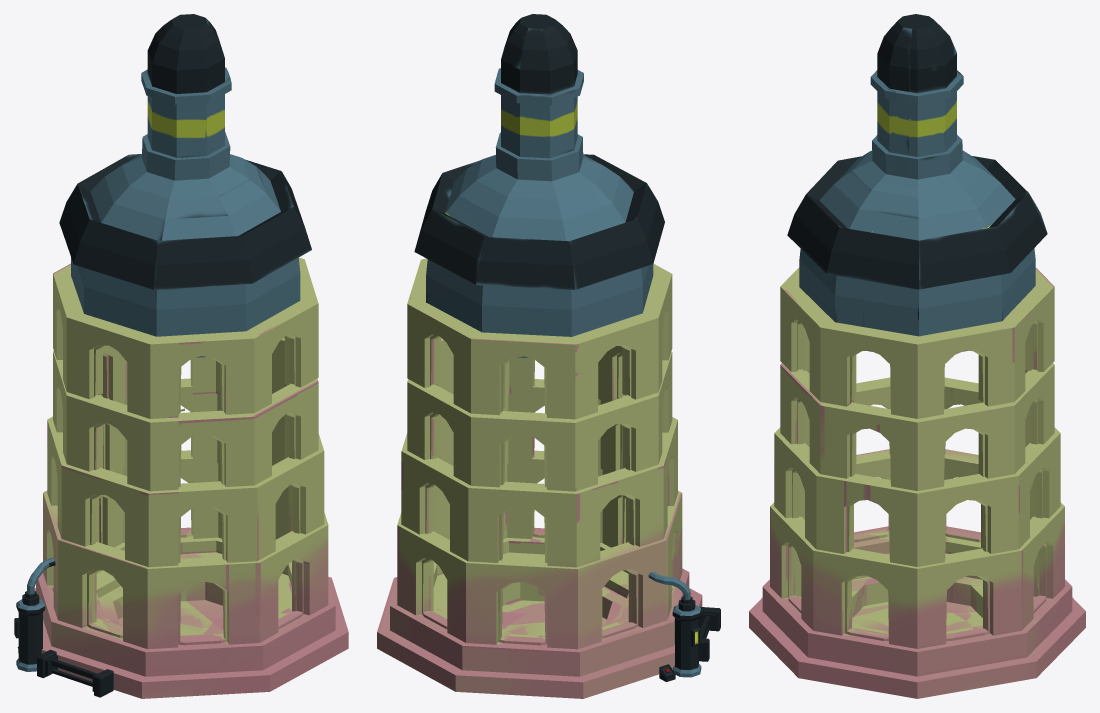
Rendered from phare.fbx.
The picture shows the model from 3 angles, left to right: view 1: azimuth 30°, elevation 25°; view 2: azimuth 150°, elevation 25°; view 3: azimuth 270°, elevation 25°; orthographic projection.
Visible parts, largest first — view 1: champ_ferme.005, champ_ferme.004, battery_ferme.012, pipe_ferme.004; view 2: champ_ferme.005, champ_ferme.004, battery_ferme.012, pipe_ferme.004; view 3: champ_ferme.005, champ_ferme.004.
Boxes of the visible parts, left/top/right/bottom form: champ_ferme.005: left=34, top=257, right=348, bottom=698; champ_ferme.004: left=59, top=14, right=311, bottom=357; battery_ferme.012: left=14, top=557, right=55, bottom=671; pipe_ferme.004: left=37, top=649, right=113, bottom=697; champ_ferme.005: left=377, top=258, right=702, bottom=698; champ_ferme.004: left=414, top=14, right=664, bottom=357; battery_ferme.012: left=648, top=571, right=701, bottom=681; pipe_ferme.004: left=699, top=607, right=720, bottom=661; champ_ferme.005: left=749, top=267, right=1085, bottom=698; champ_ferme.004: left=787, top=14, right=1047, bottom=351.
Size of the model in its own units: 1497 by 2802 by 1404.
